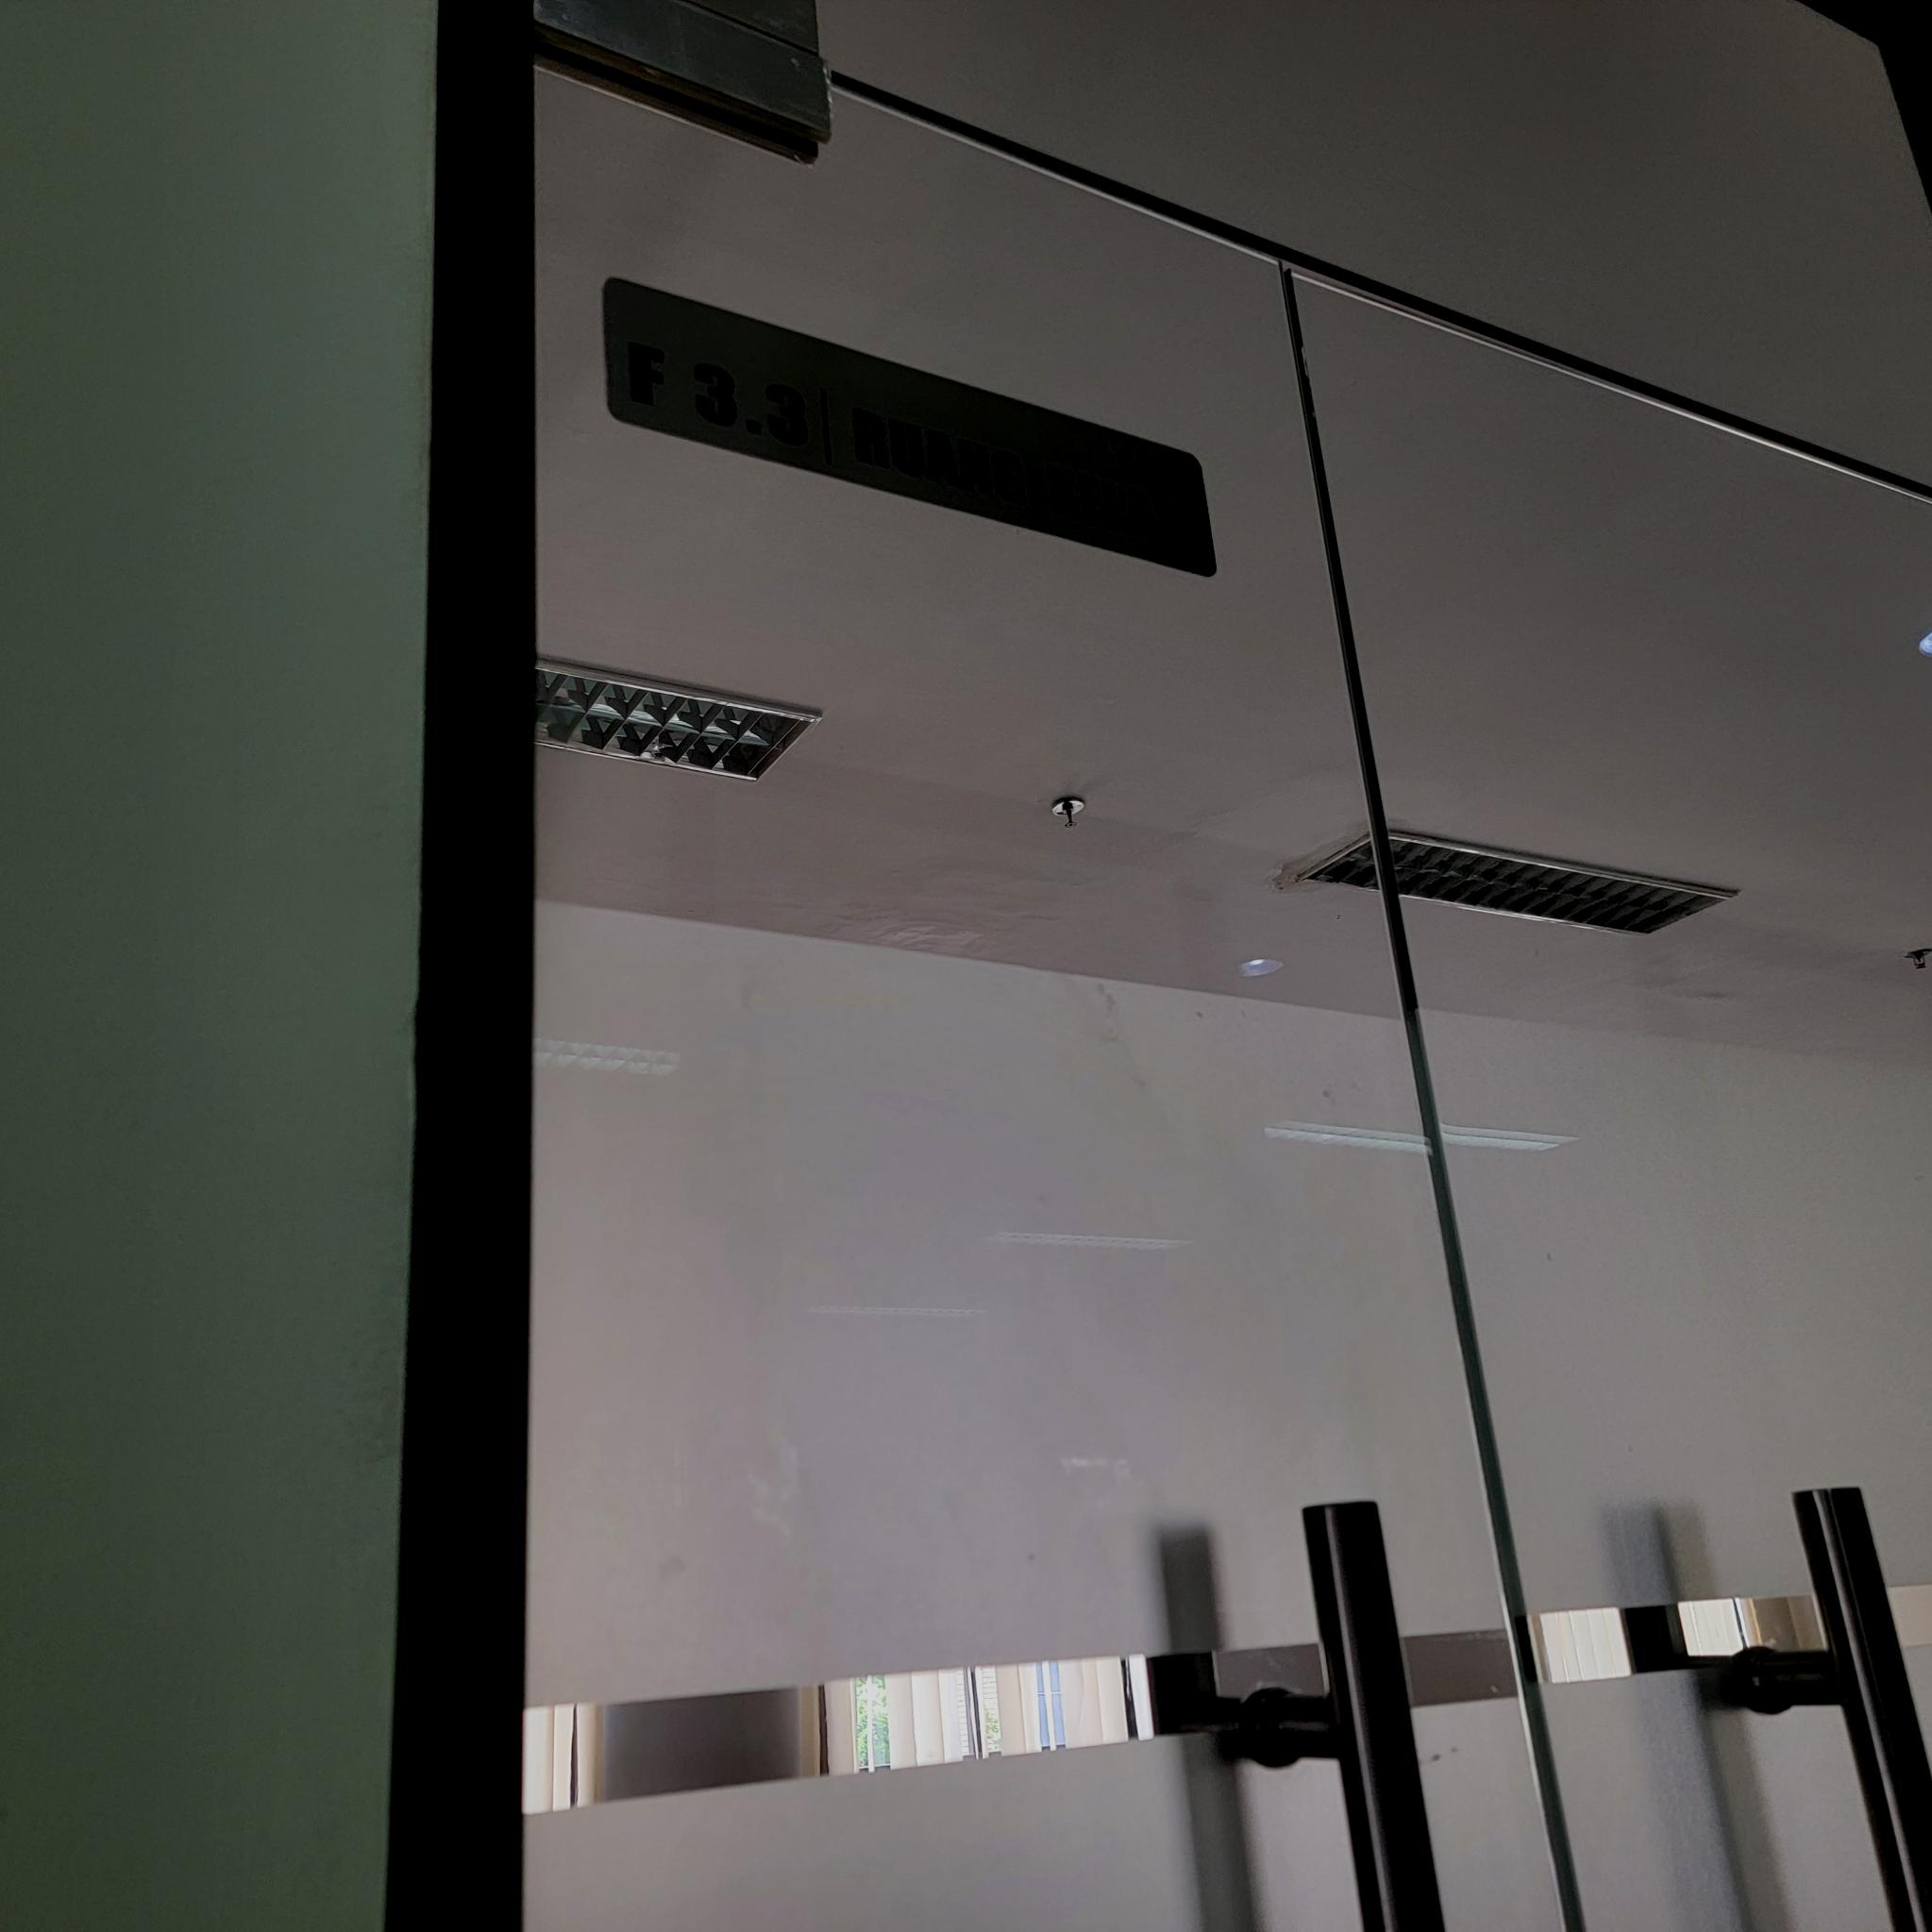plate: (603, 271, 1219, 582)
